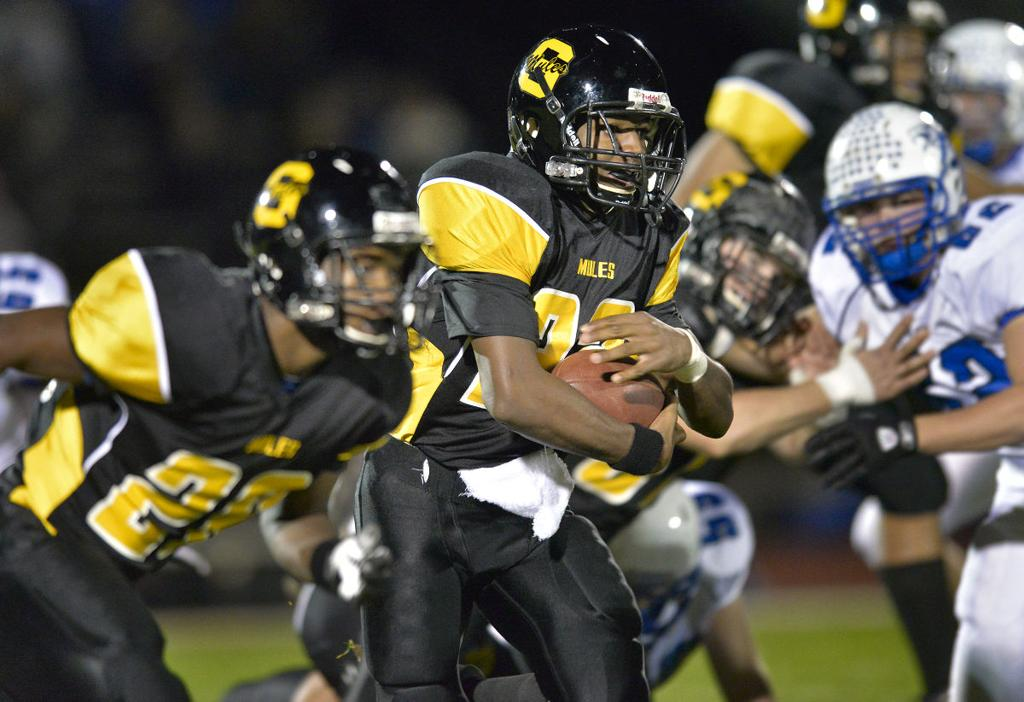face: (324, 246, 406, 354), (852, 180, 930, 280), (586, 96, 648, 204)
